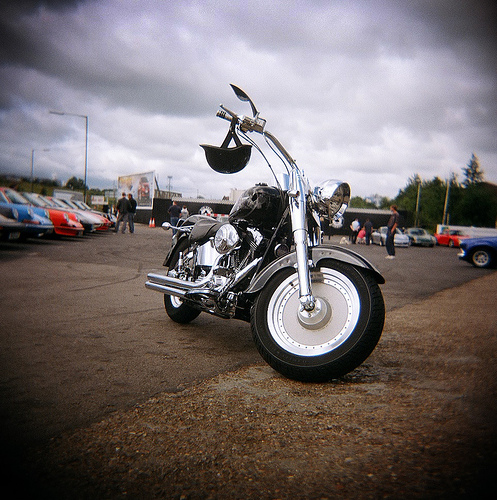helmet: (205, 142, 258, 177)
